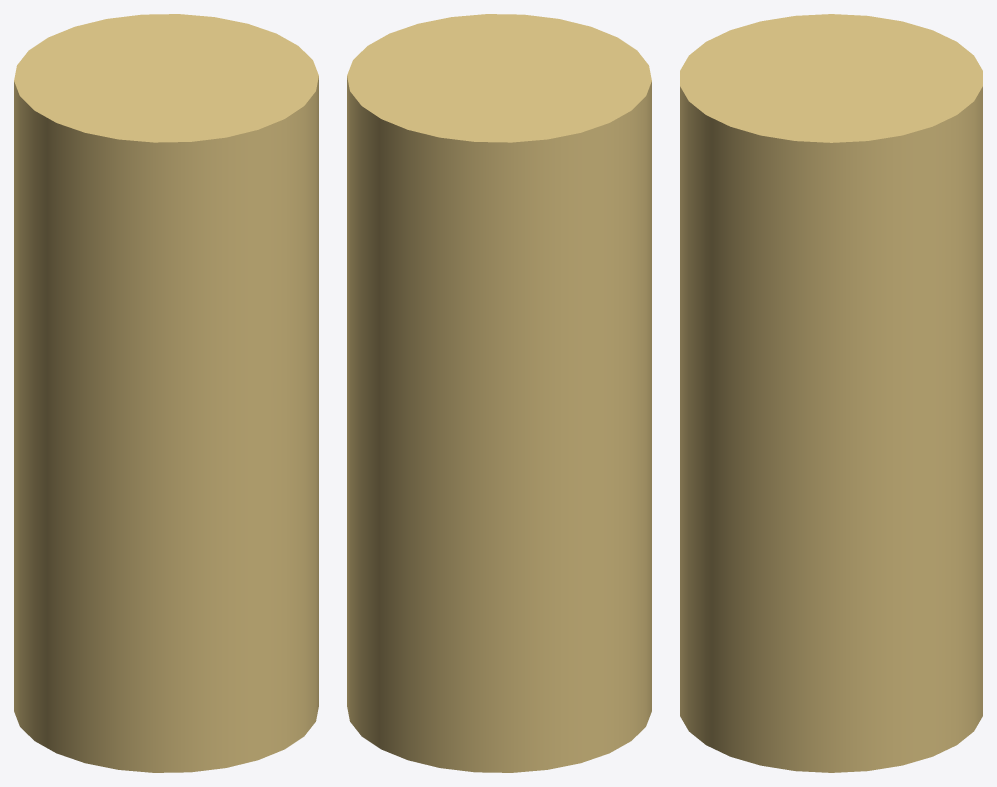
The model's file is pneumatic-push-in-fitting.glb.
The picture shows the model from 3 angles, left to right: view 1: azimuth 30°, elevation 25°; view 2: azimuth 150°, elevation 25°; view 3: azimuth 270°, elevation 25°; orthographic projection.
Size of the model in its own units: 0.0086 by 0.0196 by 0.00854.
